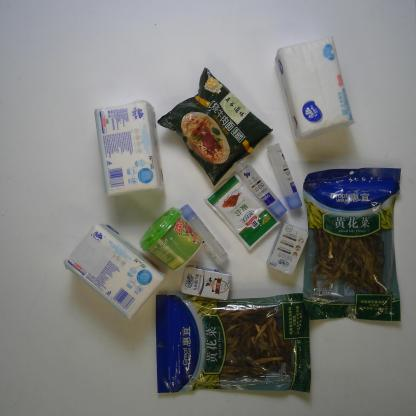Dried Food: (152, 294, 314, 398), (302, 165, 402, 325)
Instant Drink: (140, 207, 204, 269)
Instant Noodles: (158, 67, 271, 186)
Milk: (266, 222, 310, 277), (180, 265, 232, 301)
Seasoner: (206, 171, 280, 250)
Stationery: (233, 160, 286, 219), (180, 203, 230, 265), (266, 142, 302, 210)
Tissue: (63, 222, 166, 318), (272, 35, 355, 140), (91, 100, 163, 197)
